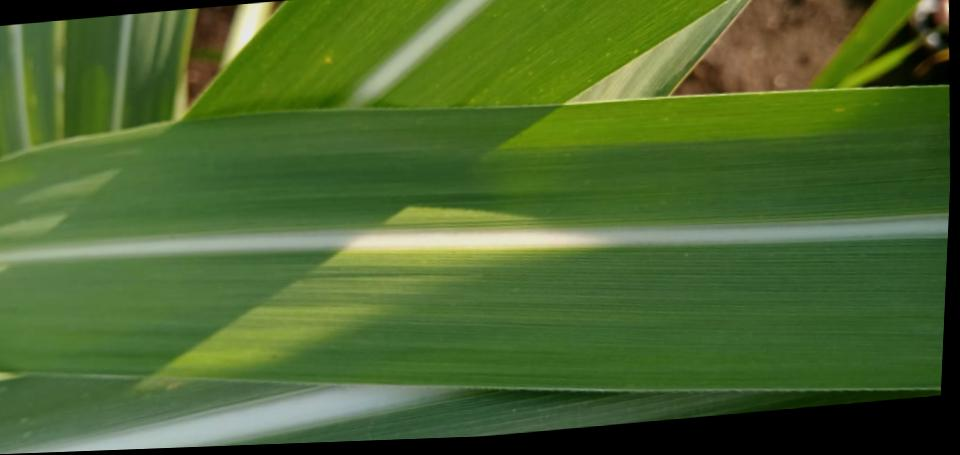Healthy: (0, 86, 950, 248), (0, 238, 948, 389), (216, 389, 941, 446), (364, 0, 725, 107), (186, 0, 452, 118), (0, 374, 327, 454)
